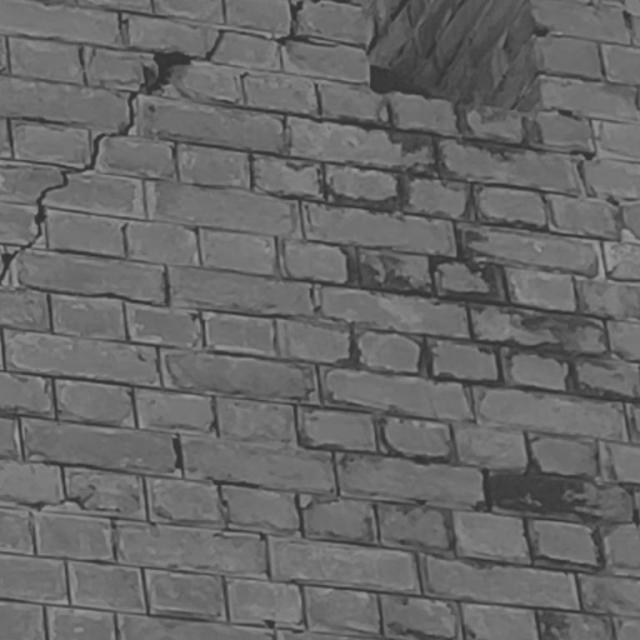crack: (1, 1, 303, 282)
